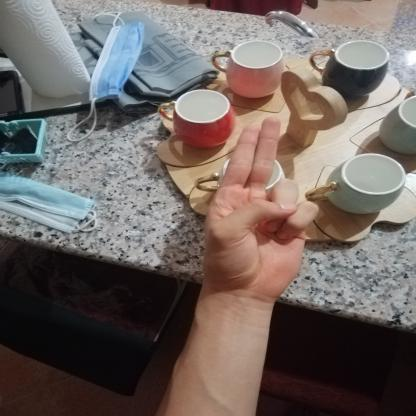TA: (189, 108, 327, 308)
